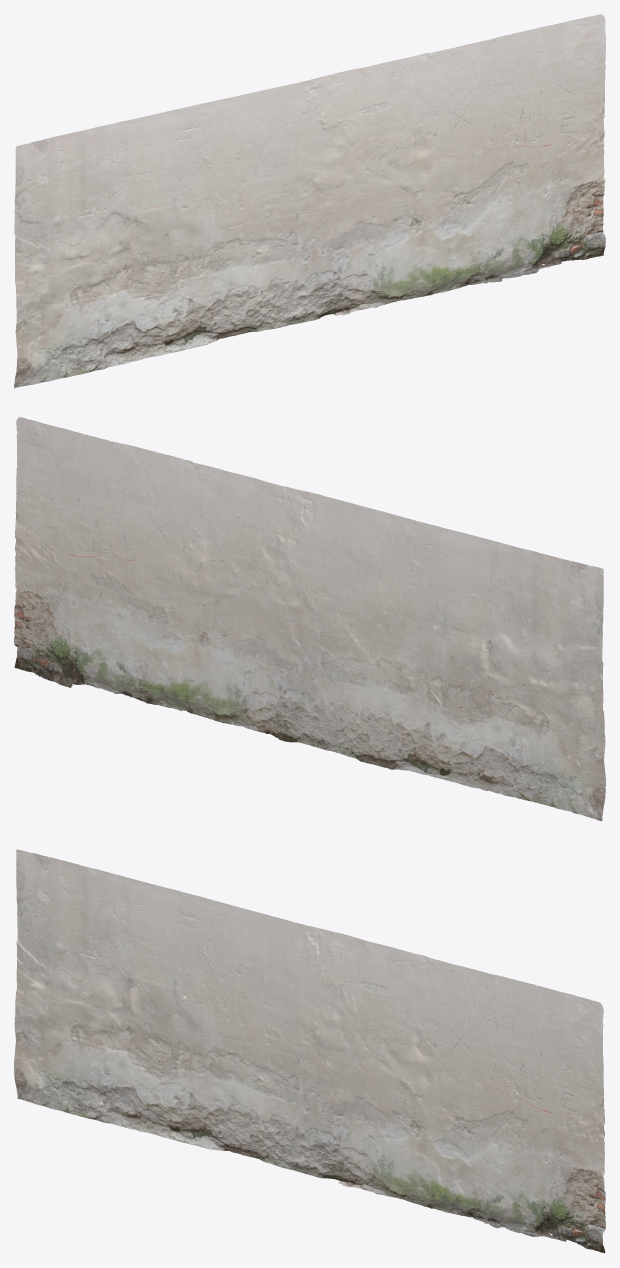
Rendered from sf-scratched-wall-a00704.glb.
3 renders of one model, top to bottom at view 1: azimuth 30°, elevation 25°; view 2: azimuth 150°, elevation 25°; view 3: azimuth 330°, elevation 25°, orthographic. The views are drawn at different scales.
Visible parts, largest first — view 1: Model_material0_0, Model_material1_0; view 2: Model_material0_0, Model_material1_0; view 3: Model_material0_0, Model_material1_0.
Part boxes in pixels (box(x1,y1,x2,y2)): Model_material0_0: box(14, 73, 544, 388); Model_material1_0: box(14, 14, 605, 270); Model_material0_0: box(54, 486, 605, 820); Model_material1_0: box(14, 417, 603, 696); Model_material0_0: box(14, 903, 550, 1237); Model_material1_0: box(16, 849, 605, 1253).
Size of the model in its own units: 4.84 by 1.95 by 0.1868.
Materials: 2 (2 with a texture image).
